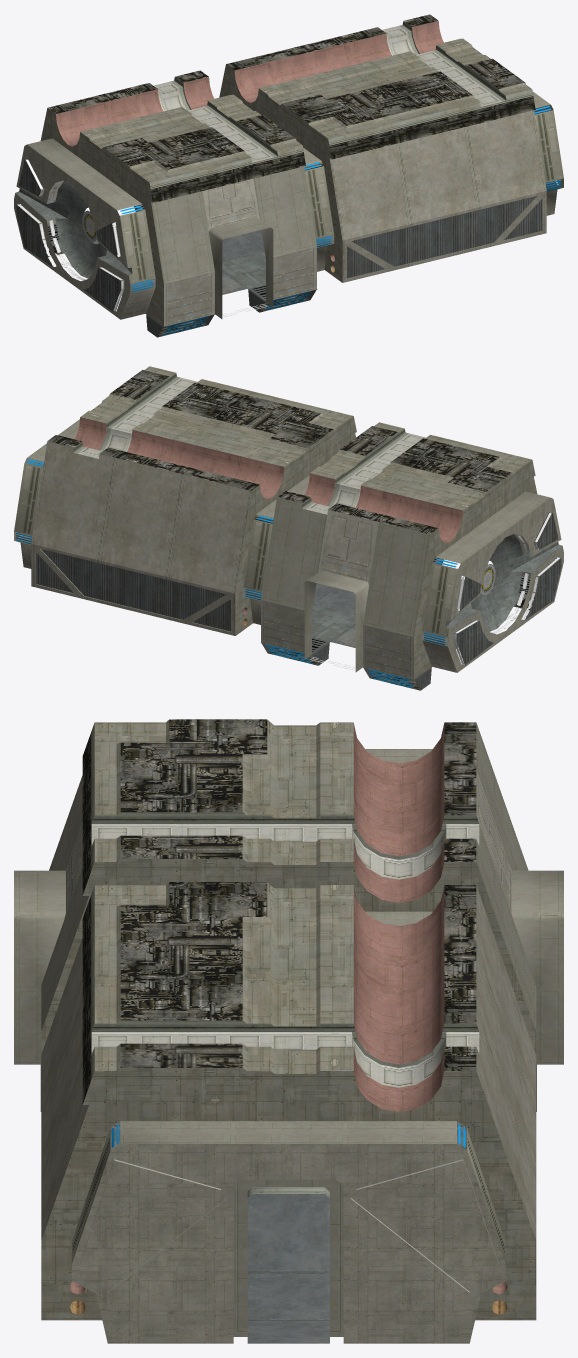
File: thm_tato_lucky_despot_r17_hall04_mesh_r17.fbx
3 views of the same model, one above another, from view 1: azimuth 30°, elevation 25°; view 2: azimuth 150°, elevation 25°; view 3: azimuth 270°, elevation 25° (orthographic). The views are drawn at different scales.
Parts seen in each view (by area): view 1: mesh_node; view 2: mesh_node; view 3: mesh_node.
Boxes of the visible parts, box(x1,y1,x2,y2) form: mesh_node: box(14, 14, 563, 337); mesh_node: box(14, 366, 563, 690); mesh_node: box(14, 719, 563, 1343).
Bounding box in the file's own units: 17.18 × 5.65 × 10.
